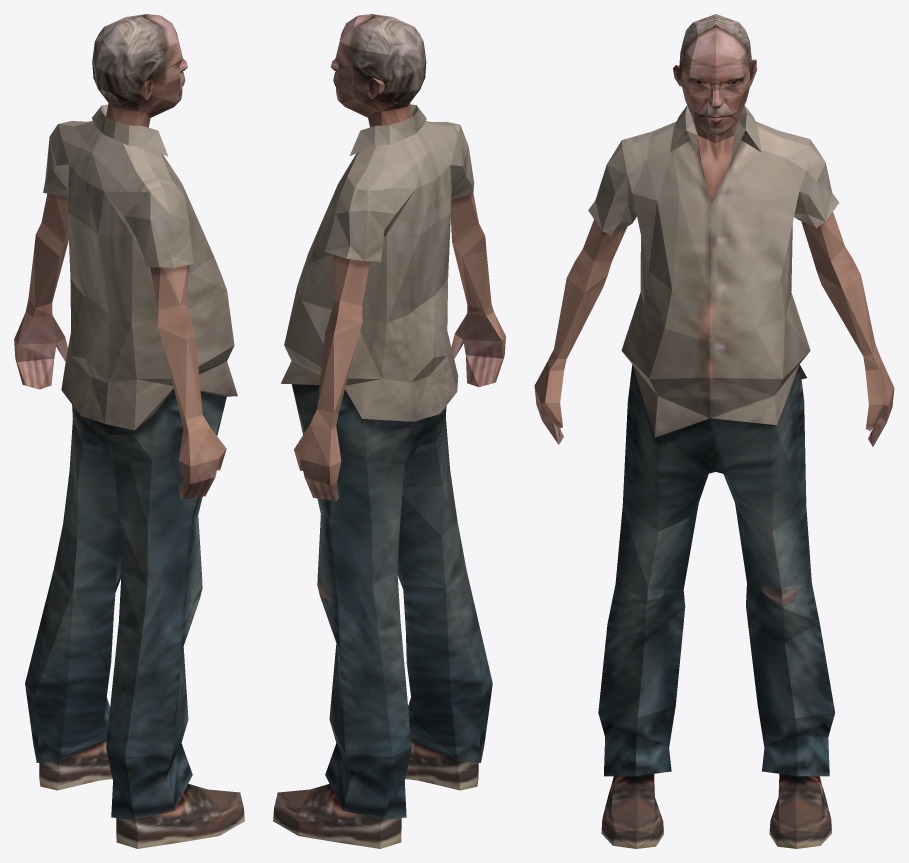
The model's file is wmost.obj.
The picture shows the model from 3 angles, left to right: view 1: azimuth 30°, elevation 25°; view 2: azimuth 150°, elevation 25°; view 3: azimuth 270°, elevation 25°; orthographic projection. The views are drawn at different scales.
Parts seen in each view (by area): view 1: _Pelvis; view 2: _Pelvis; view 3: _Pelvis.
Boxes of the visible parts, x1,y1,x2,y2 form: _Pelvis: [14, 14, 244, 848]; _Pelvis: [273, 14, 505, 848]; _Pelvis: [534, 14, 894, 848].
Size of the model in its own units: 0.3422 by 1.69 by 0.6912.
1 material, 1 textured.
